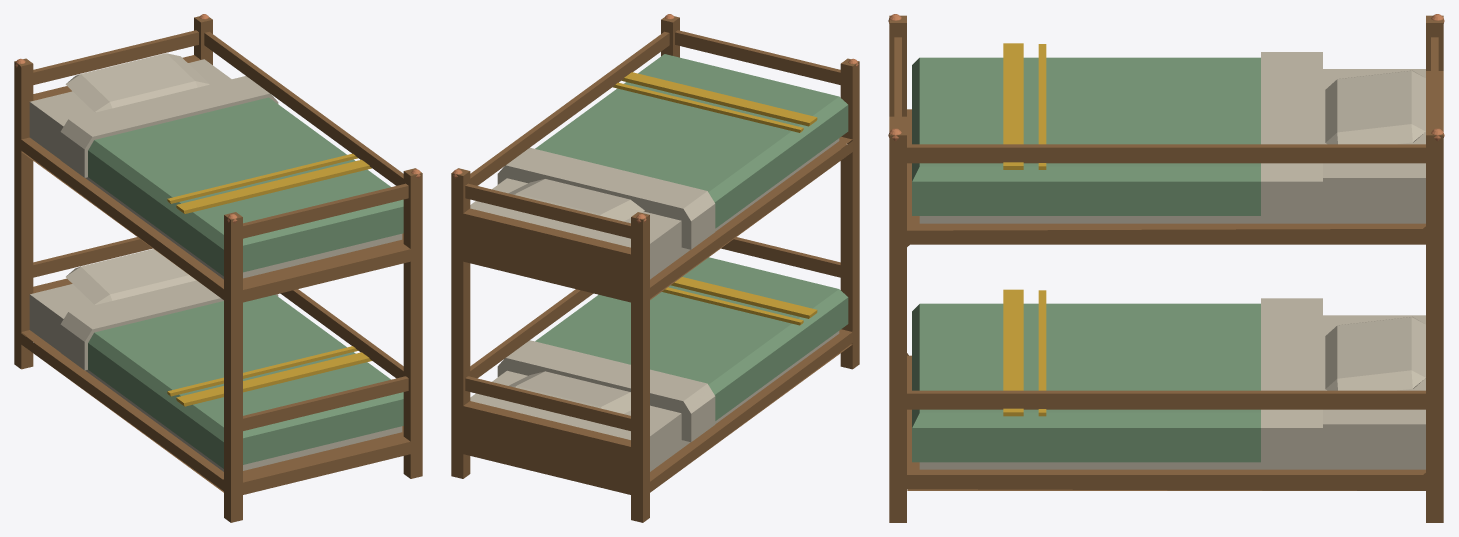
Rendered from bedBunk.glb.
3 renders of one model, left to right at view 1: azimuth 30°, elevation 25°; view 2: azimuth 150°, elevation 25°; view 3: azimuth 270°, elevation 25°, orthographic. The views are drawn at different scales.
Visible parts, largest first — view 1: bedBunk(Clone), coverTop, coverBottom, pillowTop, pillowBottom; view 2: bedBunk(Clone), coverTop, coverBottom, pillowTop, pillowBottom; view 3: bedBunk(Clone), coverBottom, coverTop, pillowTop, pillowBottom.
Boxes of the visible parts, x1,y1,x2,y2 form: bedBunk(Clone): (14, 14, 422, 522); coverTop: (60, 76, 403, 276); coverBottom: (60, 280, 403, 468); pillowTop: (65, 53, 209, 112); pillowBottom: (66, 249, 196, 304); bedBunk(Clone): (451, 14, 859, 522); coverTop: (497, 54, 848, 249); coverBottom: (497, 257, 848, 442); pillowTop: (508, 179, 644, 221); pillowBottom: (509, 371, 630, 413); bedBunk(Clone): (888, 14, 1444, 522); coverBottom: (912, 289, 1322, 464); coverTop: (912, 43, 1322, 217); pillowTop: (1325, 70, 1425, 144); pillowBottom: (1325, 316, 1425, 390).
Size of the model in its own units: 0.571 by 0.85 by 1.1.
